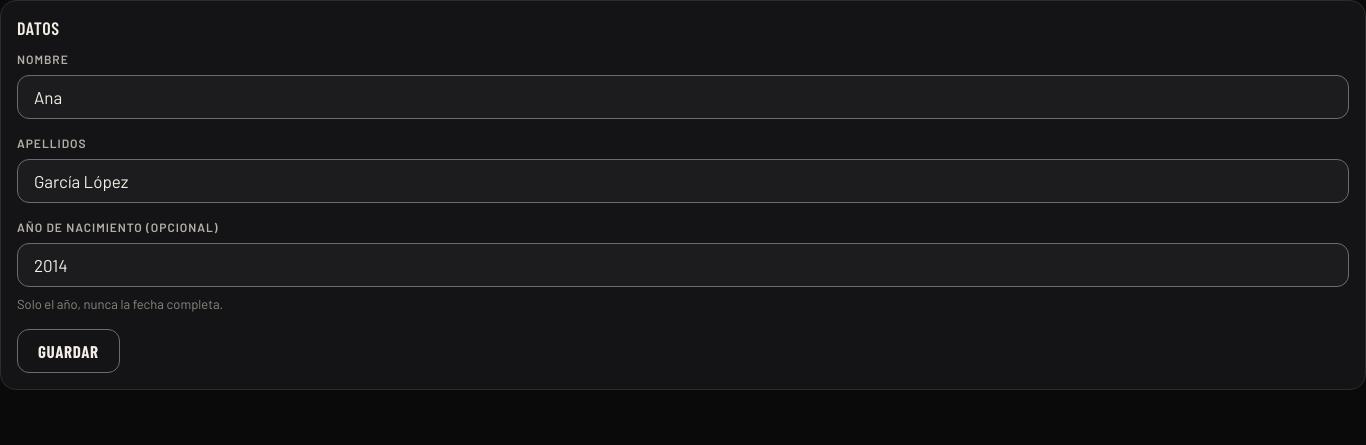
PersonEditor · una persona que existe › guarda lo escrito con el id de la persona, y lo confirma sin navegar
The image size is (1366, 445).
Replace the text in the field labelled "Nombre" with "Ana María" at coordinates (683, 97), box [17,75,1349,119]
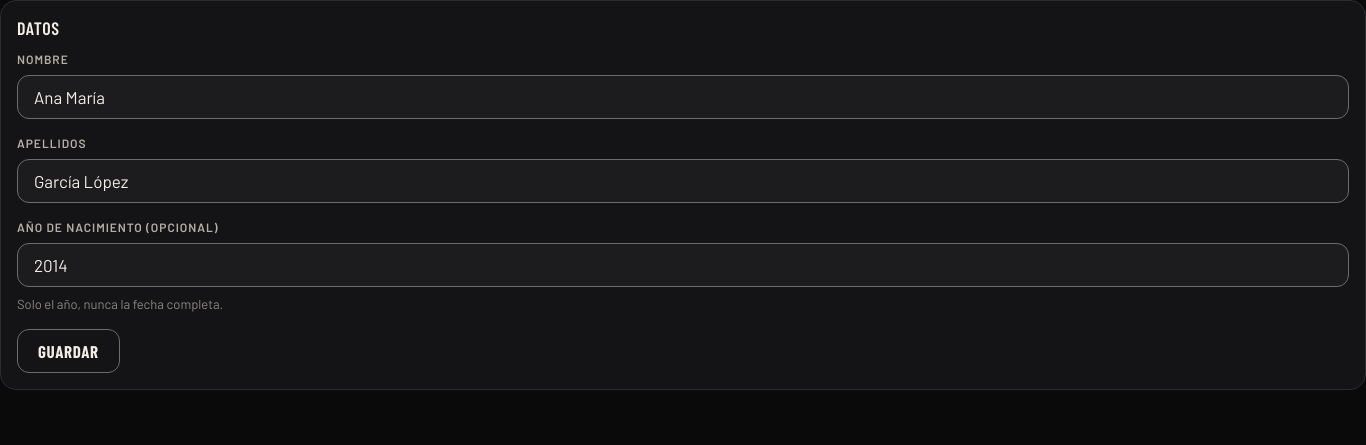
Replace the text in the field labelled "Apellidos" with "García Ruiz" at coordinates (683, 181), box [17,159,1349,203]
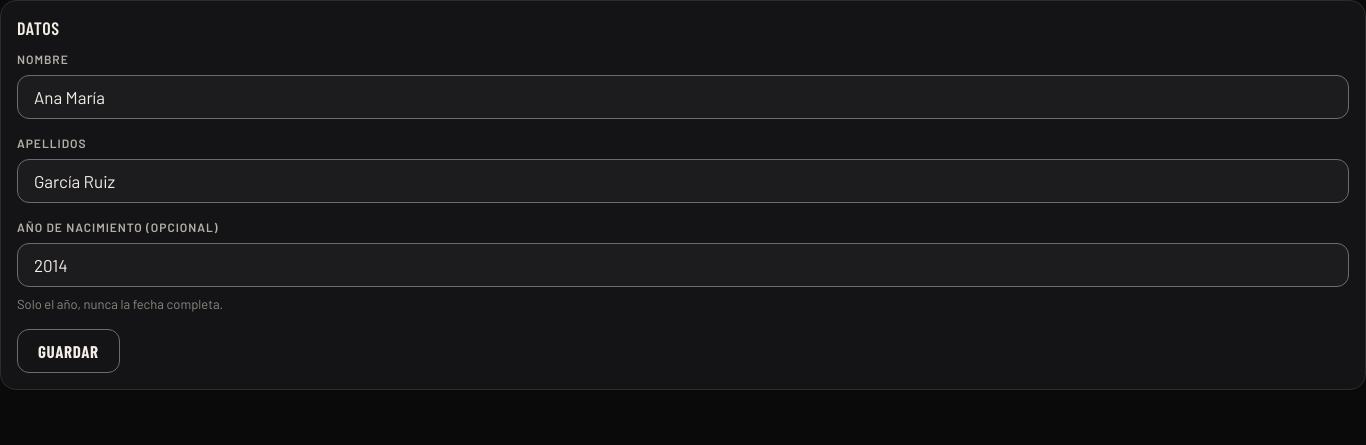
Replace the text in the number field labelled "Año de nacimiento (opcional)" with "2013" at coordinates (683, 265), box [17,243,1349,287]
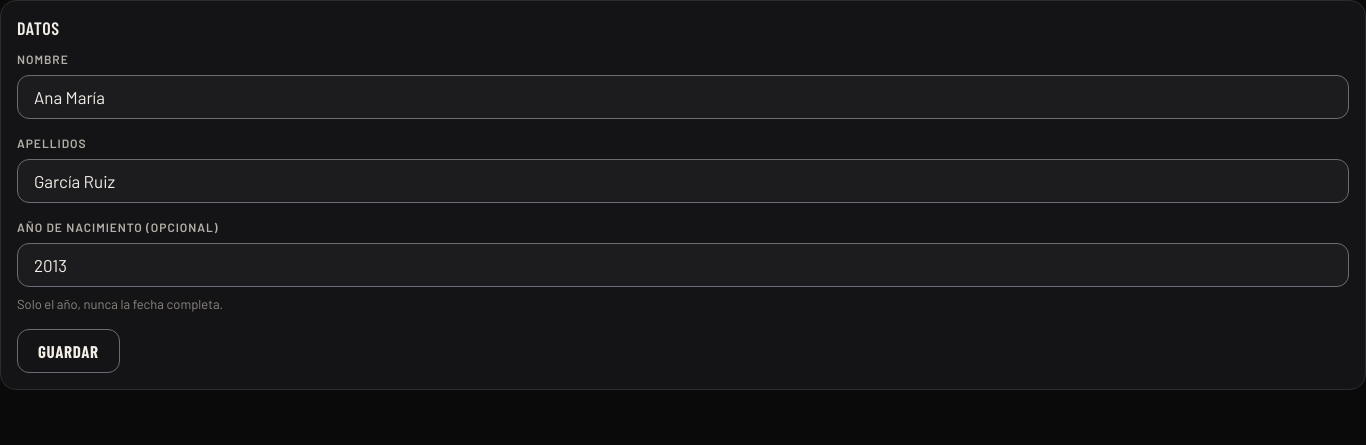
Click the button "Guardar" at coordinates (68, 351), box [17,329,120,373]
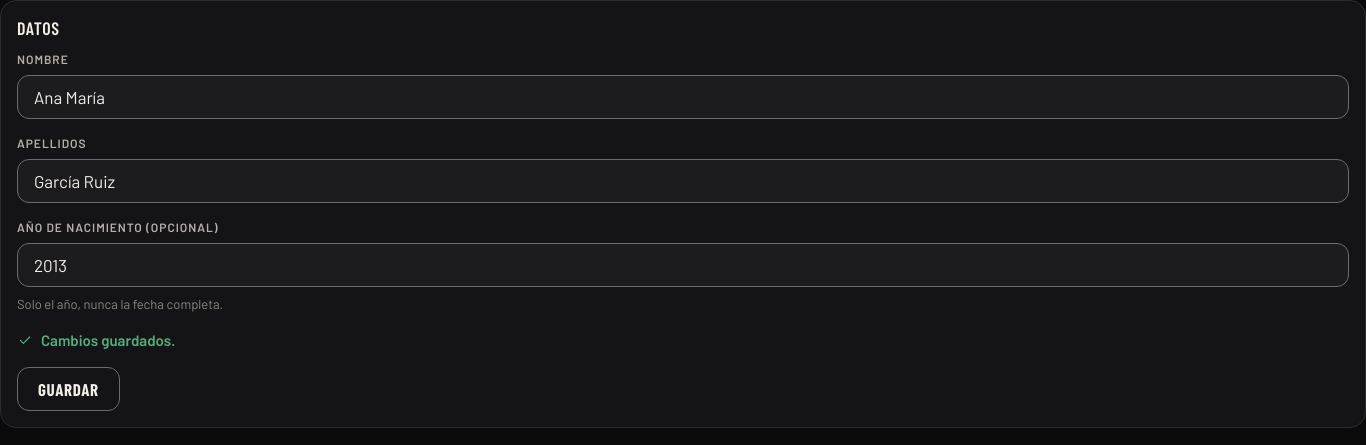
Result: the text "Cambios guardados." is shown at [17,331,175,349]
